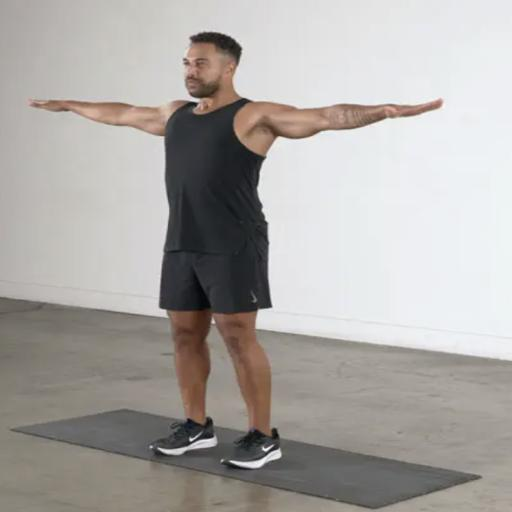Normal_BrenchPress: (27, 30, 446, 471)
